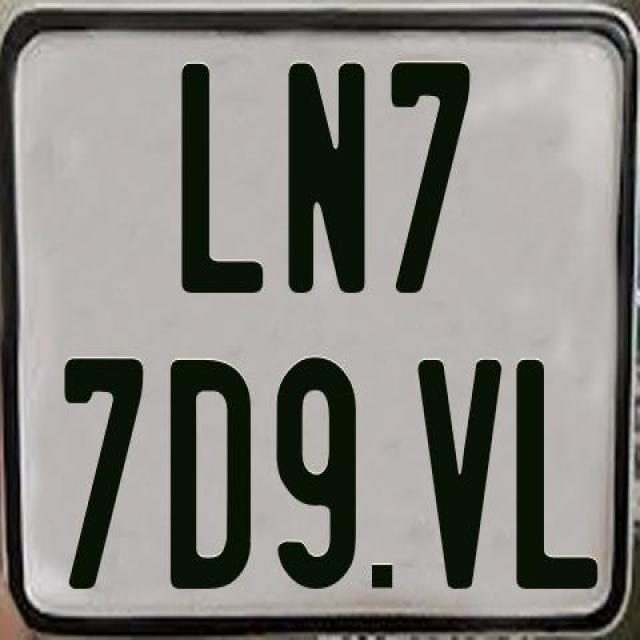7: (389, 58, 476, 292), (60, 358, 146, 594)
9: (276, 356, 356, 598)
D: (170, 358, 254, 597)
L: (181, 61, 268, 290), (514, 357, 596, 590)
N: (284, 60, 366, 298)
V: (416, 357, 508, 592)
